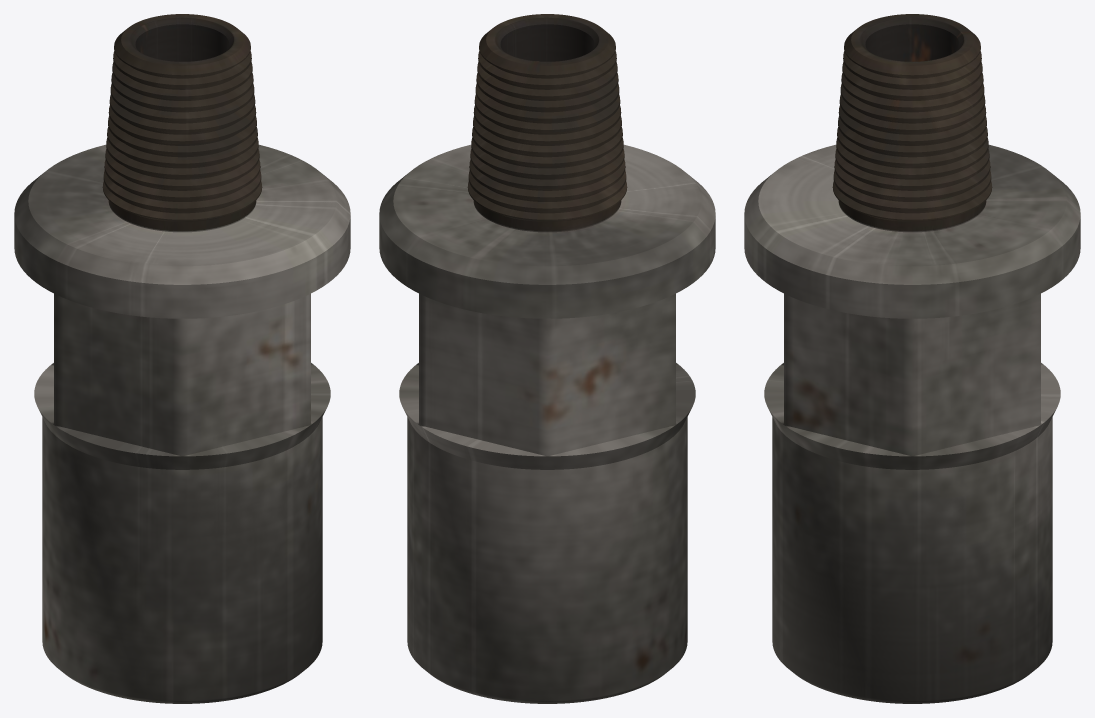
Rendered from SM_SaverSub_2_3_8.glb.
3 views of the same model, side by side, from view 1: azimuth 30°, elevation 25°; view 2: azimuth 150°, elevation 25°; view 3: azimuth 270°, elevation 25° (orthographic).
Visible parts, largest first — view 1: SaverSub_2_3_8; view 2: SaverSub_2_3_8; view 3: SaverSub_2_3_8.
Part boxes in pixels (bbox=[...]): SaverSub_2_3_8: bbox=[14, 14, 350, 703]; SaverSub_2_3_8: bbox=[379, 14, 715, 703]; SaverSub_2_3_8: bbox=[744, 14, 1080, 703].
Size of the model in its own units: 0.144 by 0.2872 by 0.144.
Materials: 1 (1 with a texture image).
